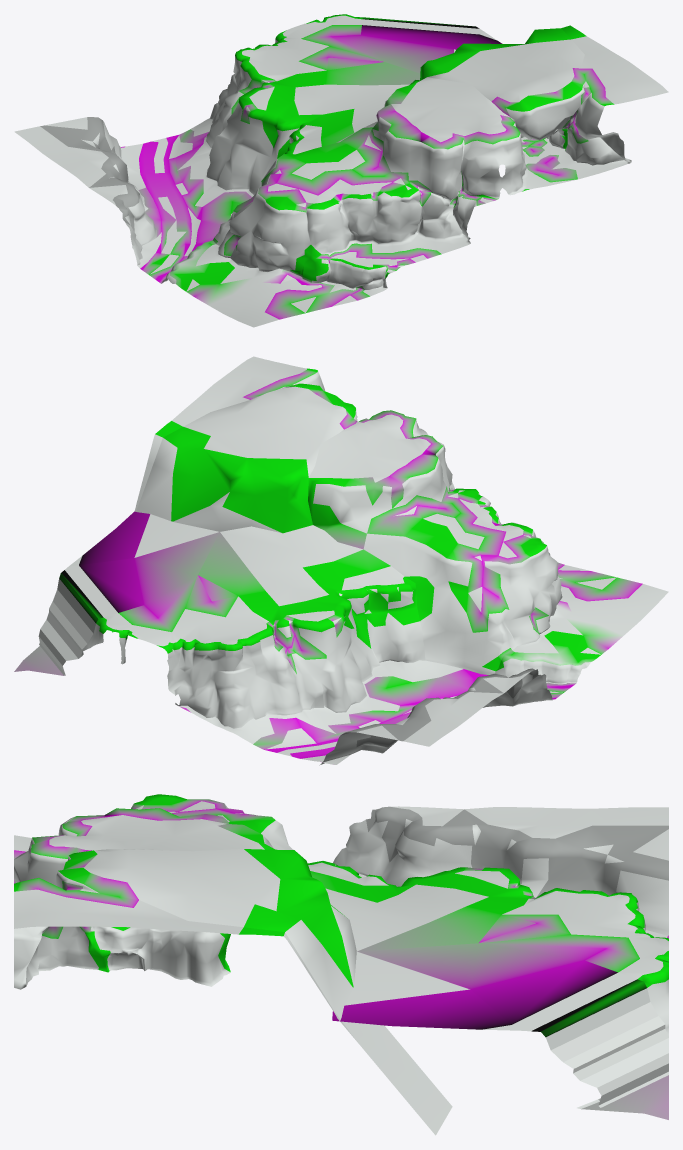
3 renders of one model, top to bottom at view 1: azimuth 30°, elevation 25°; view 2: azimuth 150°, elevation 25°; view 3: azimuth 270°, elevation 25°, orthographic. The views are drawn at different scales.
Parts seen in each view (by area): view 1: G:\FFXIV-MapTools\exports\f1f1\bg\ffxiv\fst_f1\fld\f1f1\bgpl (×20); view 2: G:\FFXIV-MapTools\exports\f1f1\bg\ffxiv\fst_f1\fld\f1f1\bgpl (×14); view 3: G:\FFXIV-MapTools\exports\f1f1\bg\ffxiv\fst_f1\fld\f1f1\bgpl (×9).
Boxes of the visible parts, left/top/right/bottom form: G:\FFXIV-MapTools\exports\f1f1\bg\ffxiv\fst_f1\fld\f1f1\bgpl (×20): left=14, top=14, right=668, bottom=327; G:\FFXIV-MapTools\exports\f1f1\bg\ffxiv\fst_f1\fld\f1f1\bgpl (×14): left=14, top=356, right=668, bottom=765; G:\FFXIV-MapTools\exports\f1f1\bg\ffxiv\fst_f1\fld\f1f1\bgpl (×9): left=14, top=794, right=668, bottom=1135.
Size of the model in its own units: 128 by 49.19 by 128.
